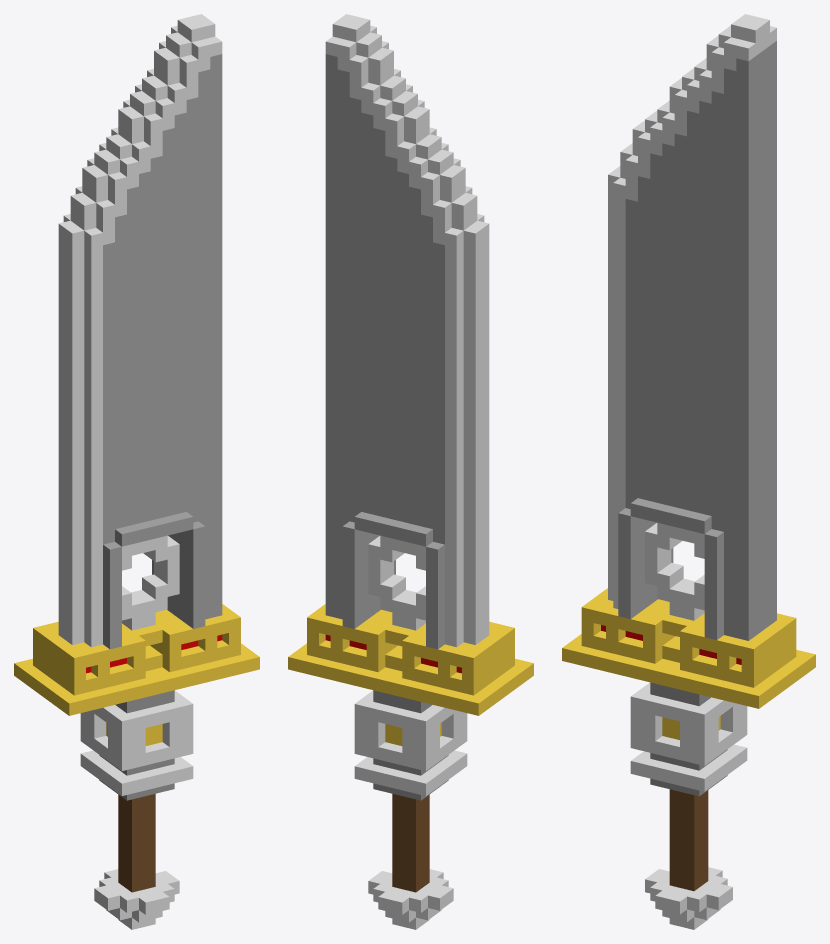
File: buster.obj
3 renders of one model, left to right at view 1: azimuth 30°, elevation 25°; view 2: azimuth 150°, elevation 25°; view 3: azimuth 330°, elevation 25°, orthographic. The views are drawn at different scales.
Bounding box in the file's own units: 1.6 × 7.1 × 0.8.
1 material, 1 textured.
